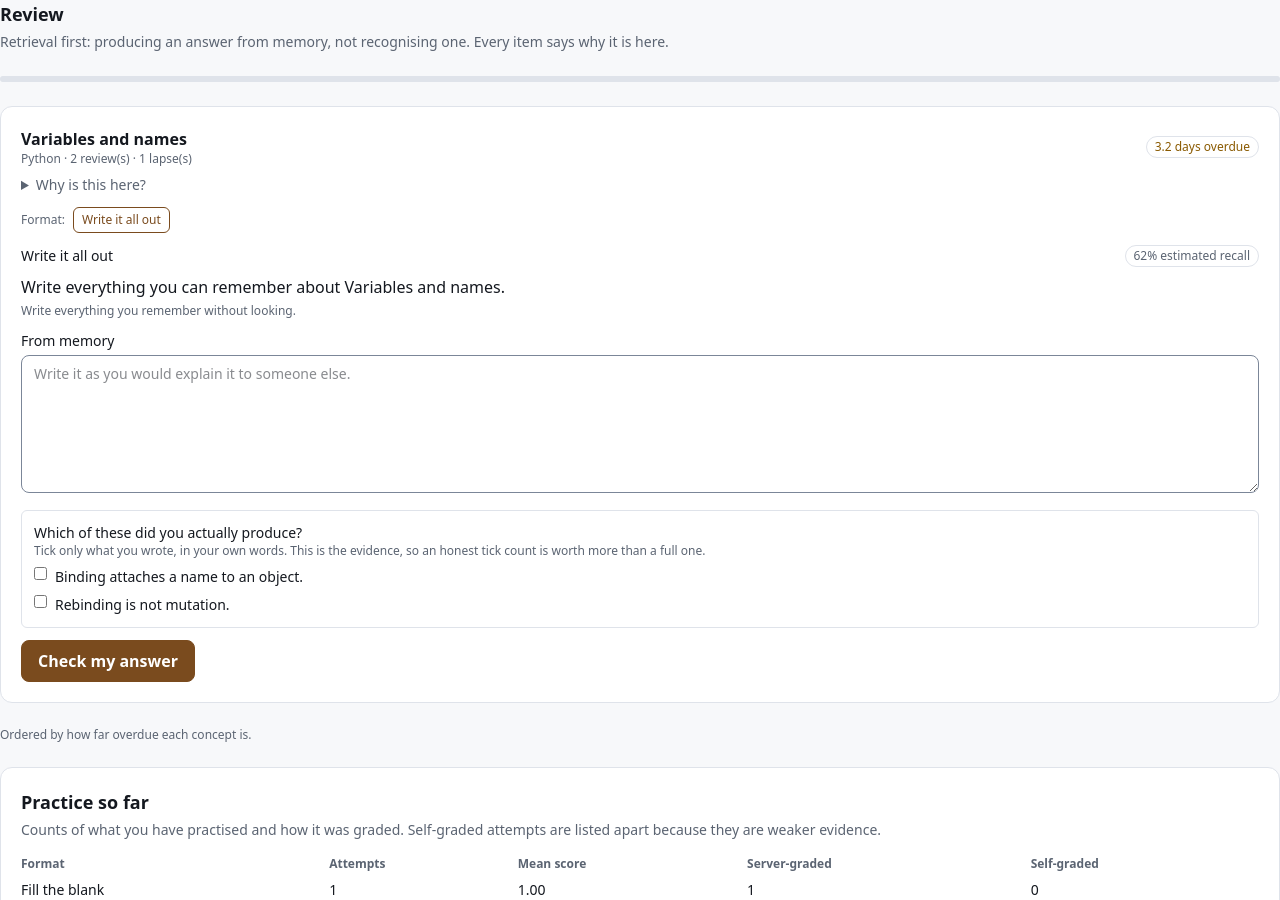
Test: ReviewPage — self-graded recall › sends an empty tick list rather than blocking an honest zero
Click the button "Check my answer" at (108, 661), box [21,640,195,682]
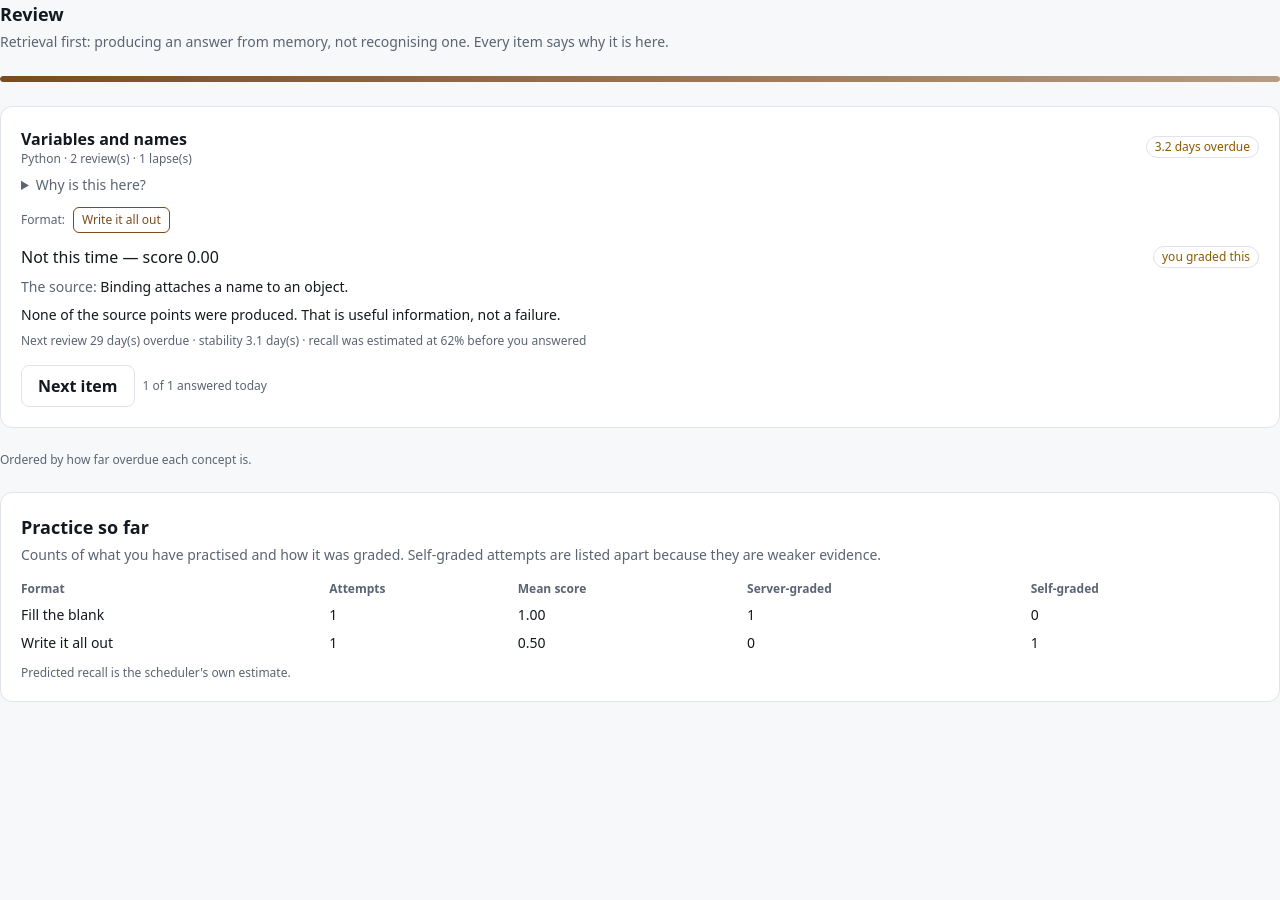
Check: the text "Not this time — score 0.00" is shown, box [21,245,219,269]
